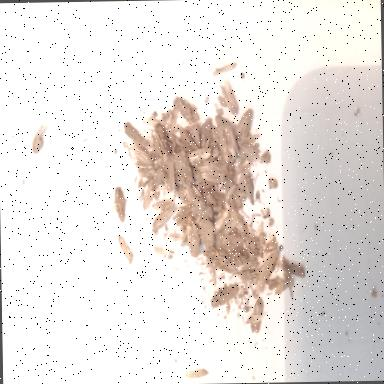pbw: (123, 120, 153, 150), (210, 281, 242, 309), (172, 96, 201, 124), (148, 121, 172, 153), (235, 107, 254, 146), (150, 202, 176, 230), (186, 210, 200, 259), (249, 298, 268, 334), (219, 80, 238, 116), (182, 182, 206, 210), (230, 206, 250, 239), (214, 124, 230, 165), (201, 249, 230, 269), (179, 212, 196, 246), (130, 146, 154, 170), (140, 178, 158, 210), (30, 123, 48, 155), (237, 138, 260, 163), (117, 234, 134, 266), (240, 230, 256, 264), (178, 148, 194, 180), (164, 154, 177, 193), (200, 214, 214, 249), (196, 160, 231, 174), (172, 202, 192, 226), (178, 126, 198, 150), (213, 204, 230, 232), (218, 231, 246, 248), (280, 258, 306, 276), (186, 146, 212, 164), (273, 277, 296, 297), (113, 182, 124, 222), (204, 255, 218, 286), (152, 130, 166, 160), (199, 116, 213, 146), (214, 260, 240, 276), (214, 114, 235, 133), (244, 173, 255, 207), (238, 160, 252, 186), (224, 185, 246, 201), (176, 173, 194, 192), (220, 218, 241, 234), (225, 128, 236, 158), (202, 188, 218, 206), (240, 133, 260, 147), (210, 189, 224, 208), (201, 172, 223, 184), (232, 253, 248, 269), (137, 167, 158, 179), (242, 267, 259, 280), (192, 122, 200, 148), (151, 200, 171, 210), (226, 162, 236, 181), (232, 192, 242, 208), (156, 168, 166, 183)
